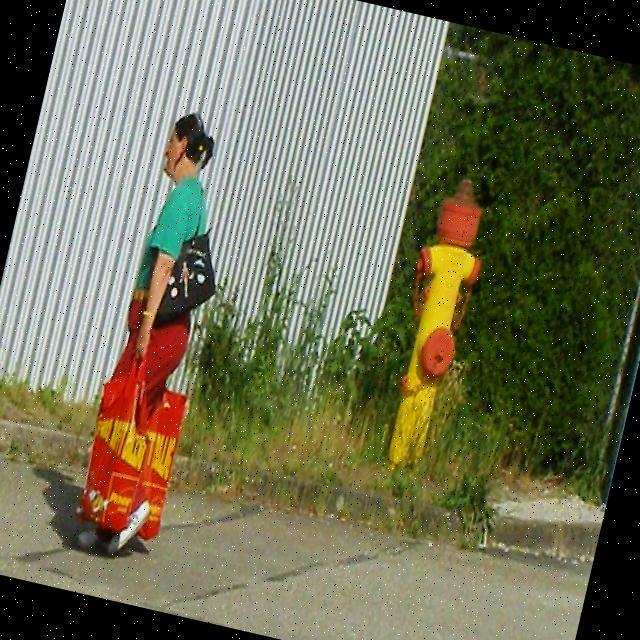fire_hydrant: (368, 170, 498, 480)
